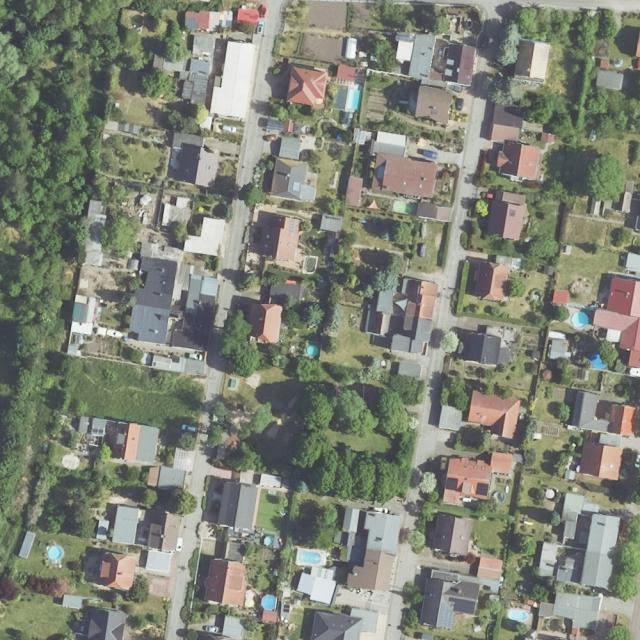PV: (448, 596, 477, 614), (437, 603, 454, 627), (476, 482, 489, 496), (445, 477, 458, 490), (185, 17, 198, 29), (289, 219, 295, 233)
ST: (293, 181, 301, 191)
